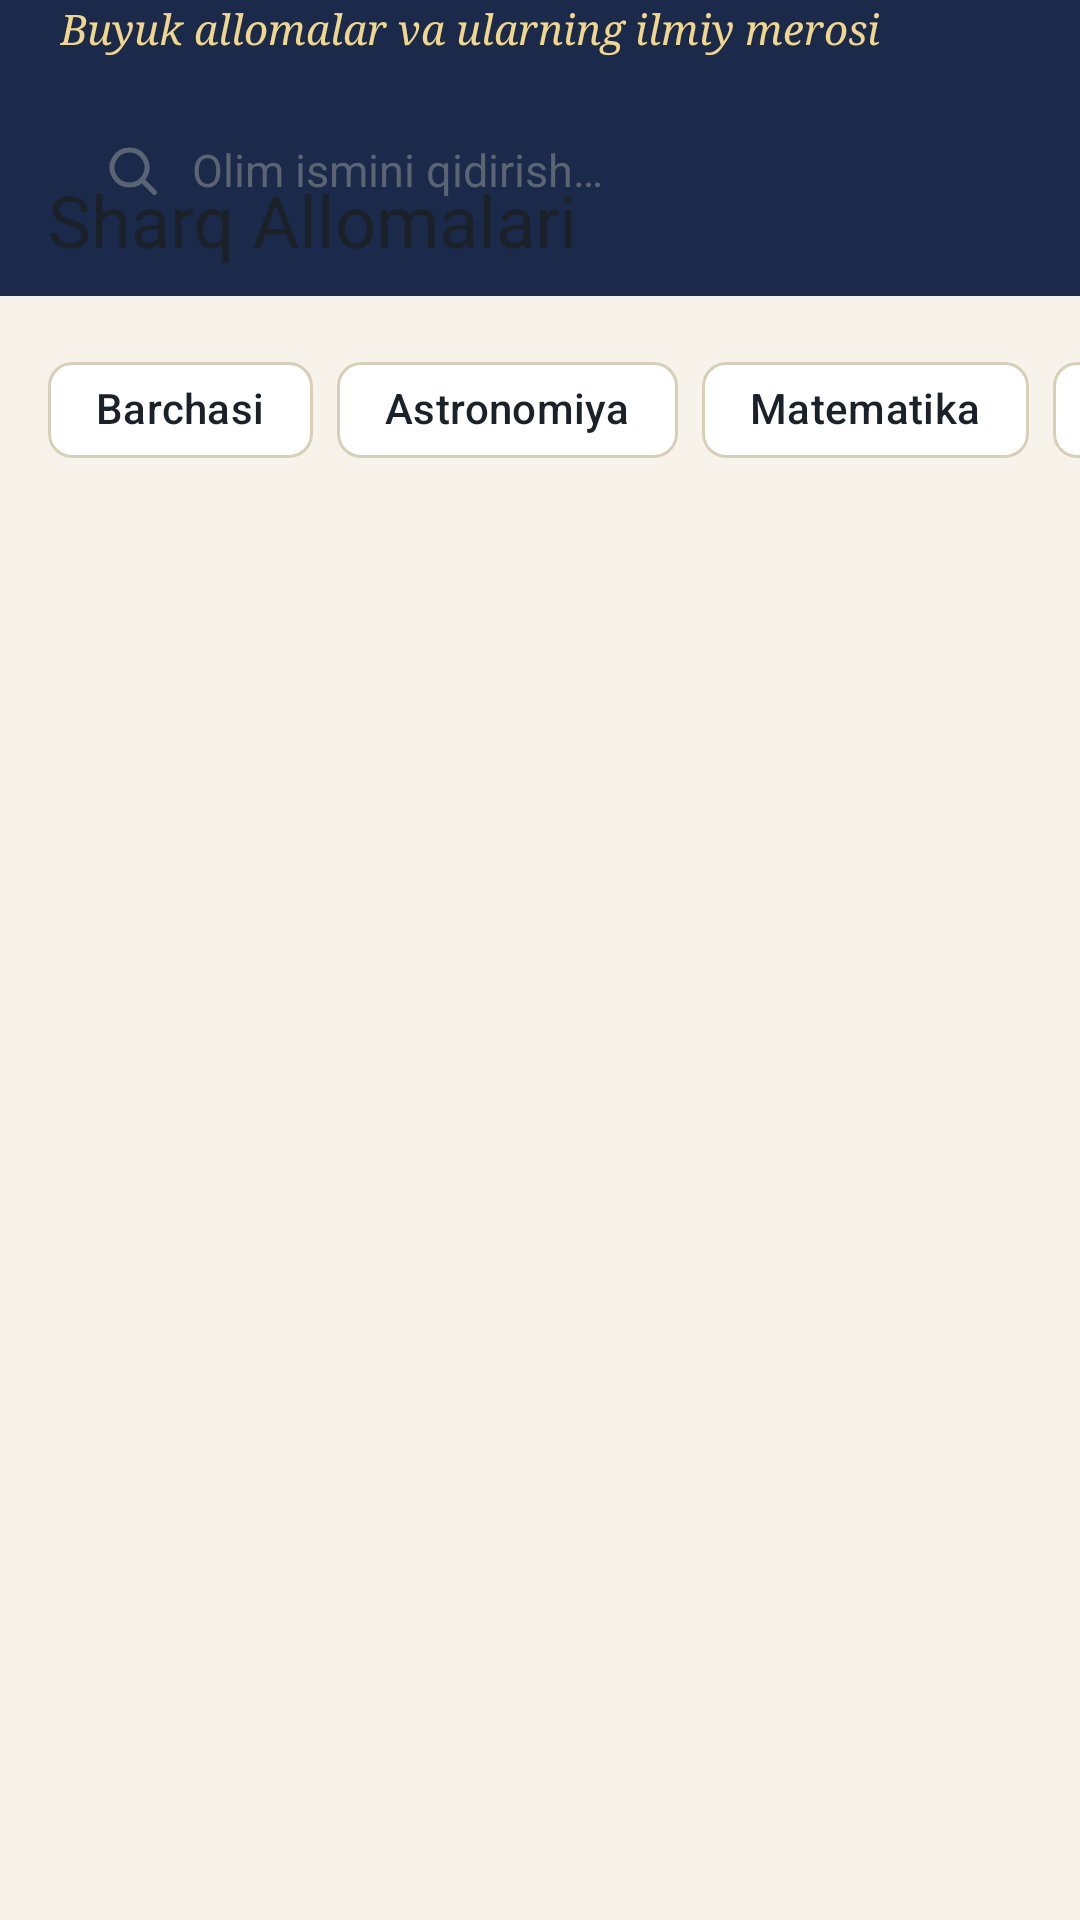

Screen size 1080x1920. Icon name, then its box in pixels as (left=x1, top=y1, right=x2, bottom=y2):
search: (left=109, top=147, right=157, bottom=195)
